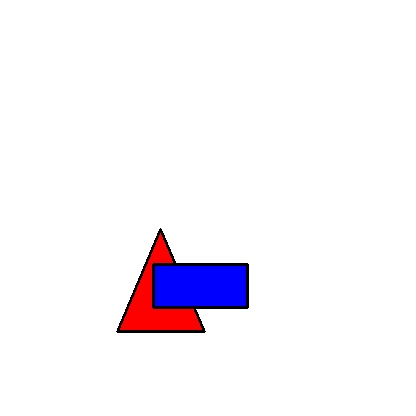rectangle: (153, 264, 247, 307)
triangle: (117, 229, 204, 331)
